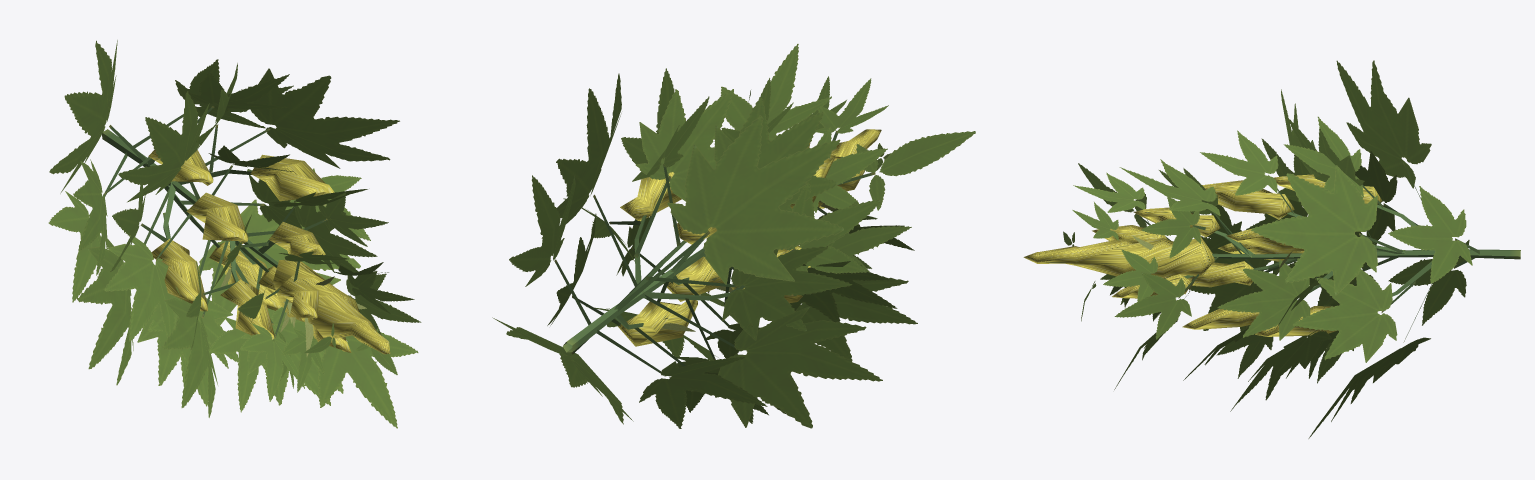
File: p_gold_hybrid_flowering_c0_cards.obj
The picture shows the model from 3 angles, left to right: view 1: azimuth 30°, elevation 25°; view 2: azimuth 150°, elevation 25°; view 3: azimuth 270°, elevation 25°; orthographic projection. The views are drawn at different scales.
Size of the model in its own units: 1.26 by 1.29 by 1.57.
Materials: 1 (1 with a texture image).
